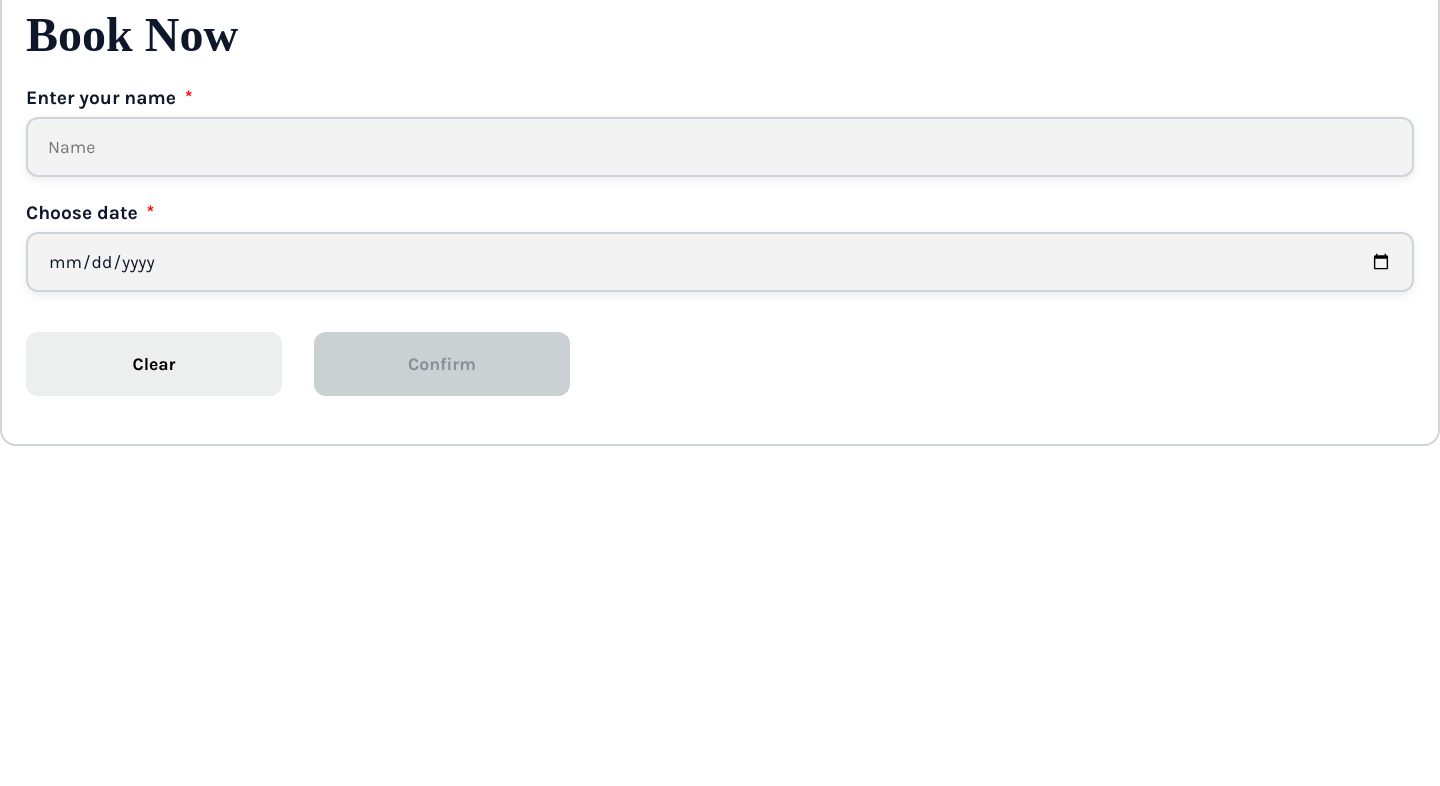
Test: enables submit when required fields are complete
This screenshot has width=1440, height=786.
Type "jane doe" into the field labelled "Enter your name *" at (720, 147), box [26,117,1414,177]
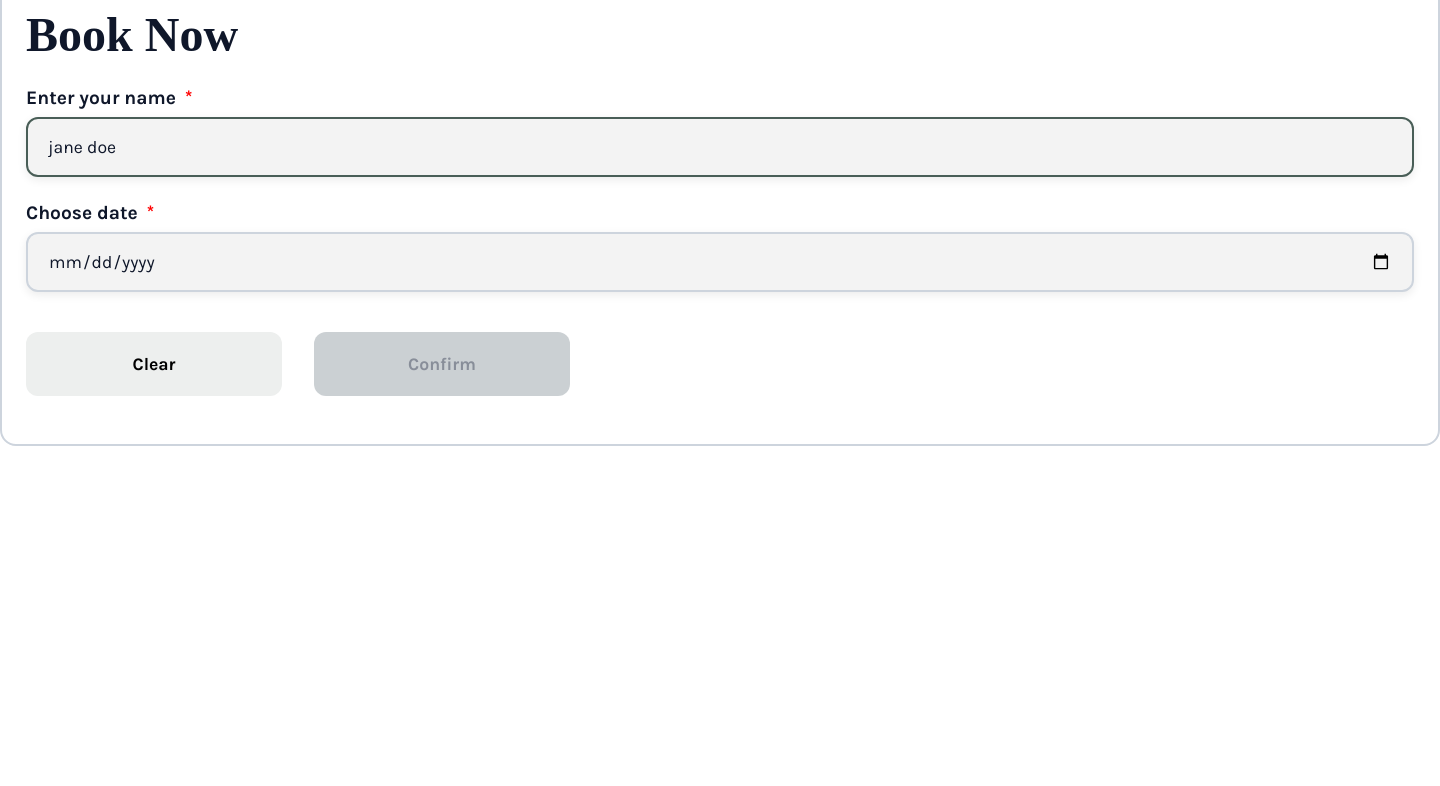
Type "2099-06-10" into the date field labelled "Choose date *" at (720, 262), box [26,232,1414,292]
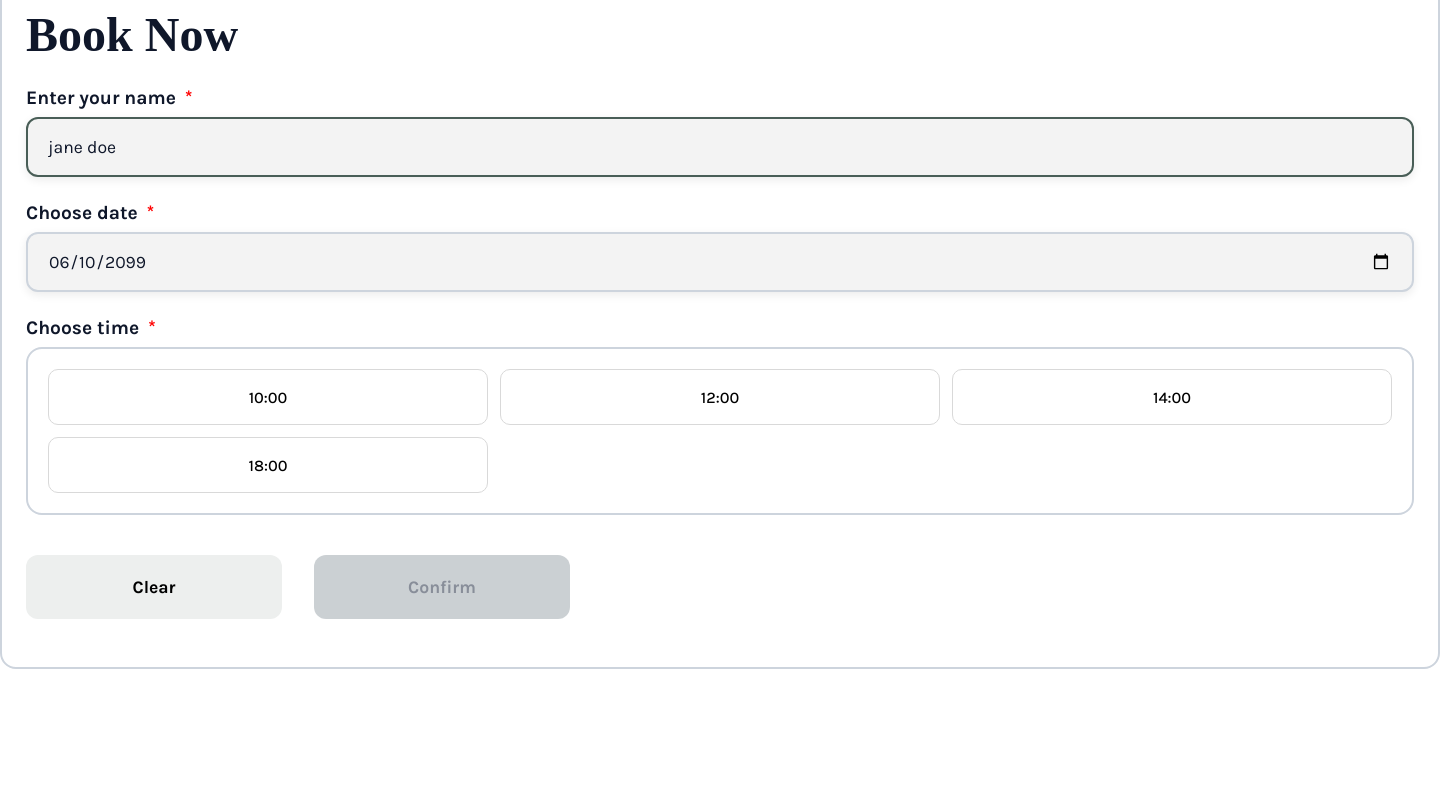
Click the button "18:00" at (268, 465), box [48,437,488,493]
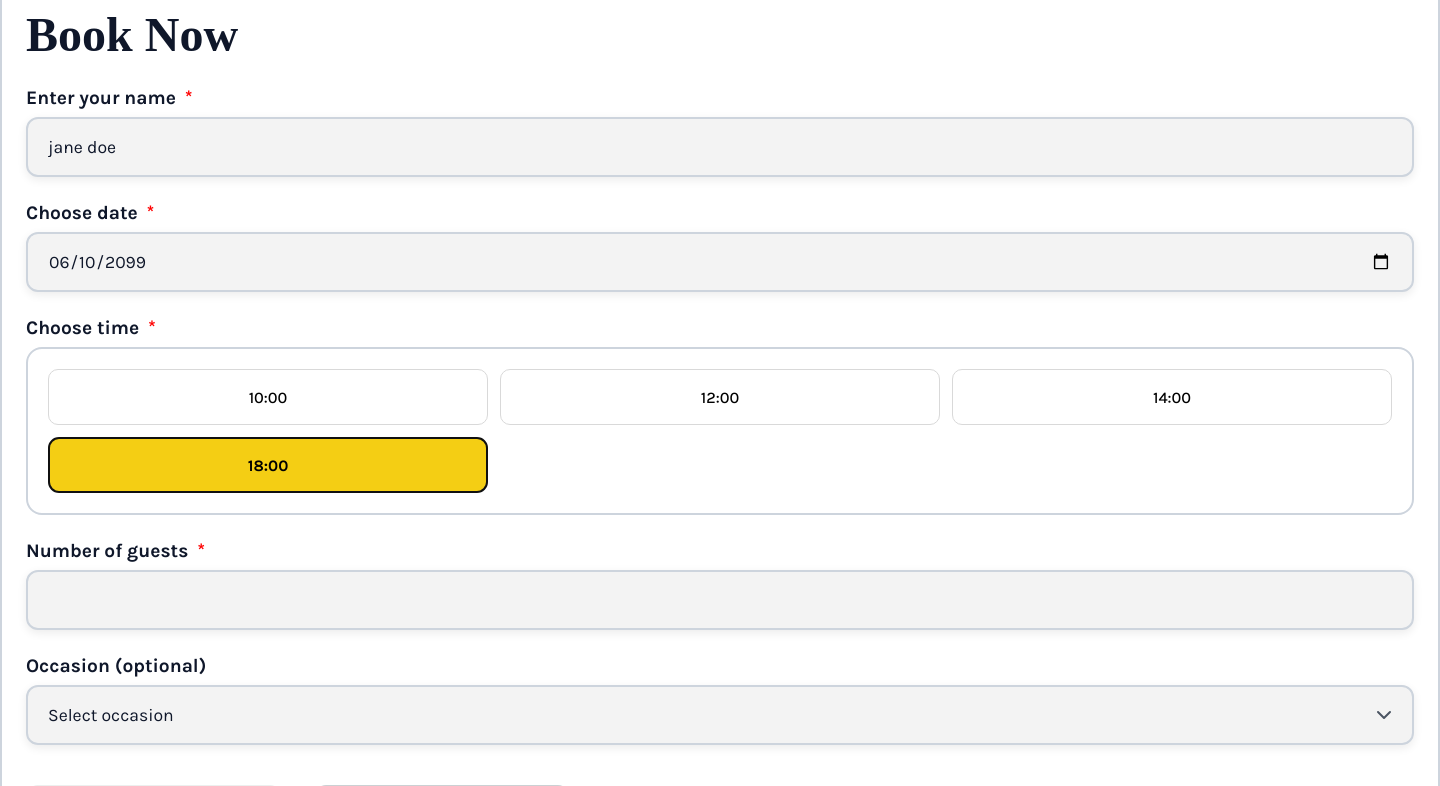
Type "2" into the number field labelled "Number of guests *" at (720, 600), box [26,570,1414,630]
(page scrolled)
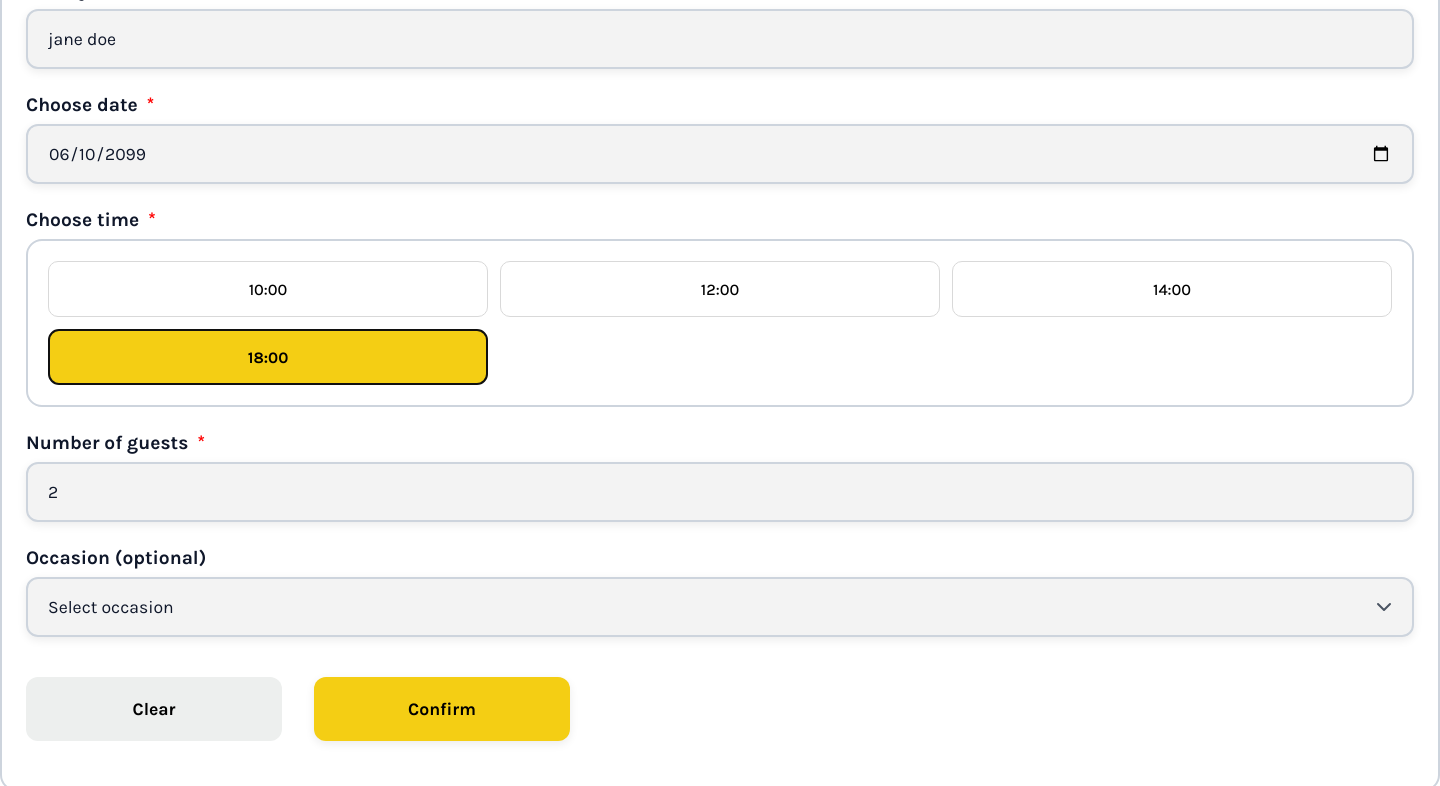
Expected: the button "Confirm" is enabled, [314,677,570,741]
